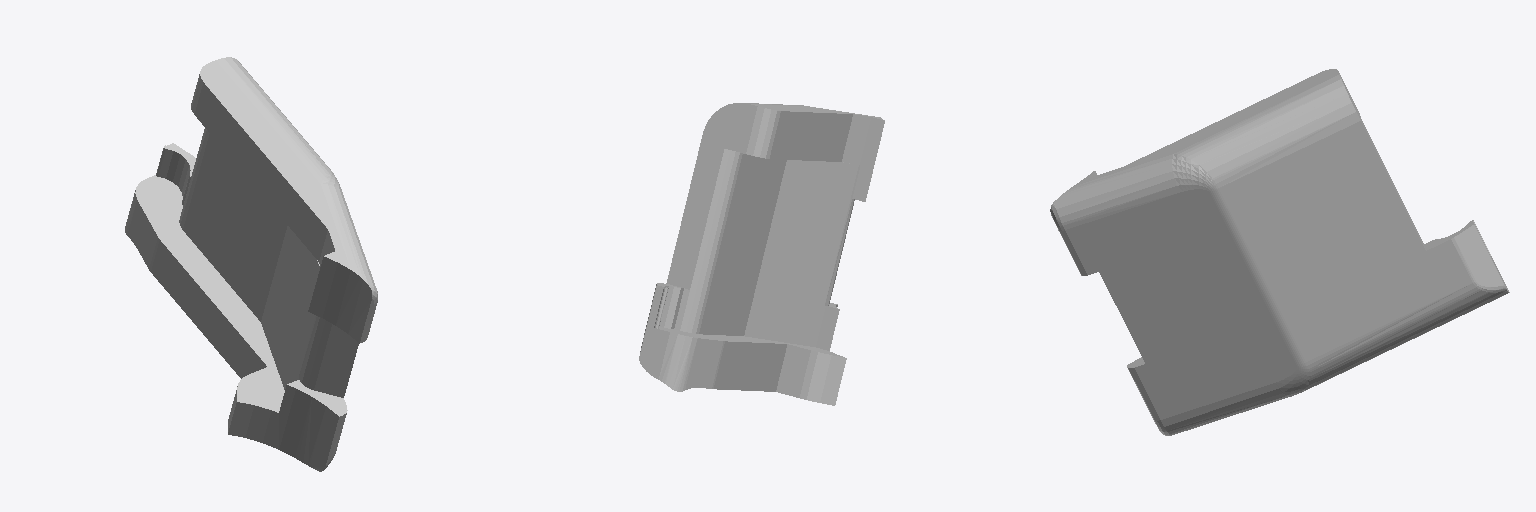
The model's file is converted_r3_finger_proximal_lid_808080ff.obj.
3 renders of one model, left to right at view 1: azimuth 30°, elevation 25°; view 2: azimuth 150°, elevation 25°; view 3: azimuth 270°, elevation 25°, orthographic.
Size of the model in its own units: 0.0114 by 0.0394 by 0.0464.